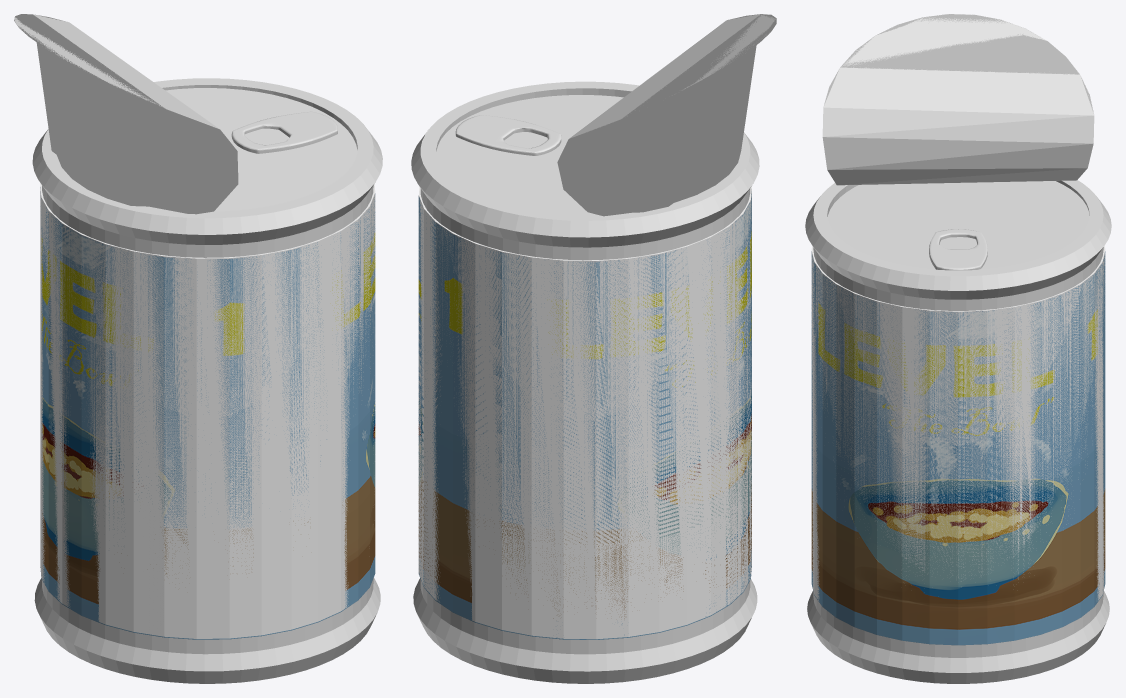
File: can_level_1.gltf
3 renders of one model, left to right at view 1: azimuth 30°, elevation 25°; view 2: azimuth 150°, elevation 25°; view 3: azimuth 270°, elevation 25°, orthographic. The views are drawn at different scales.
Visible parts, largest first — view 1: Label Wrap, Cylinder, Can Body, Can Top.001, Can Top, Open Tab; view 2: Label Wrap, Cylinder, Can Body, Can Top.001, Can Top, Open Tab; view 3: Cylinder, Label Wrap, Can Top.001, Can Body, Can Top, Open Tab.
Boxes of the visible parts, bbox=[...] form: Label Wrap: bbox=[40, 183, 375, 638]; Cylinder: bbox=[40, 187, 375, 639]; Can Body: bbox=[32, 78, 382, 683]; Can Top.001: bbox=[14, 14, 238, 214]; Can Top: bbox=[165, 88, 357, 211]; Open Tab: bbox=[231, 111, 337, 153]; Label Wrap: bbox=[418, 186, 751, 639]; Cylinder: bbox=[418, 191, 751, 639]; Can Body: bbox=[411, 81, 759, 683]; Can Top.001: bbox=[557, 14, 776, 216]; Can Top: bbox=[436, 95, 623, 214]; Open Tab: bbox=[455, 115, 561, 155]; Cylinder: bbox=[811, 252, 1105, 645]; Label Wrap: bbox=[811, 246, 1105, 600]; Can Top.001: bbox=[822, 14, 1094, 185]; Can Body: bbox=[805, 180, 1111, 683]; Can Top: bbox=[827, 181, 1089, 269]; Open Tab: bbox=[929, 229, 987, 270].
Bounding box in the file's own units: 4.42 × 8.05 × 4.17.
3 materials, 1 textured.
